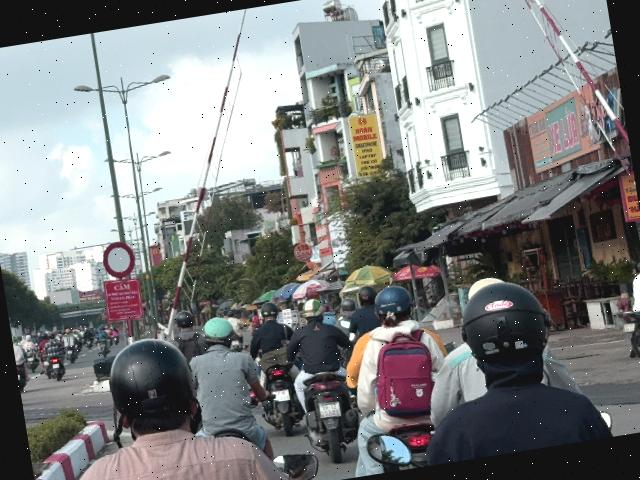duong-cam: (100, 238, 136, 280)
